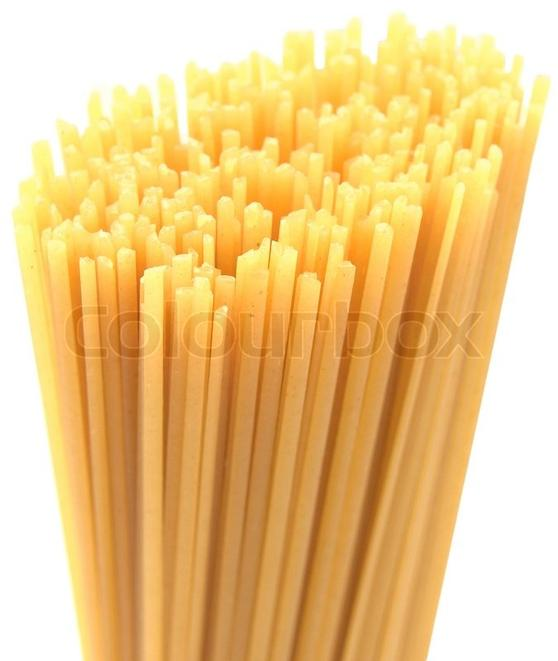spaghetti: (18, 27, 526, 661)
